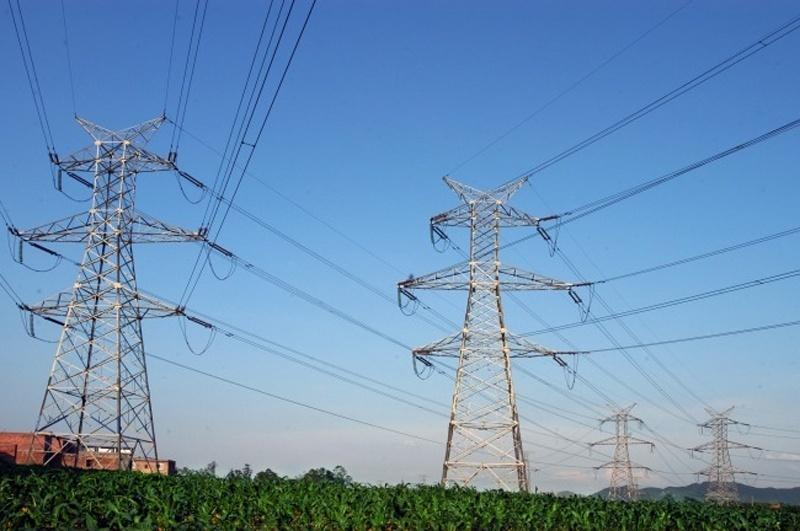power_tower: (7, 113, 234, 480), (395, 171, 591, 490), (688, 403, 764, 503), (590, 403, 656, 506)
